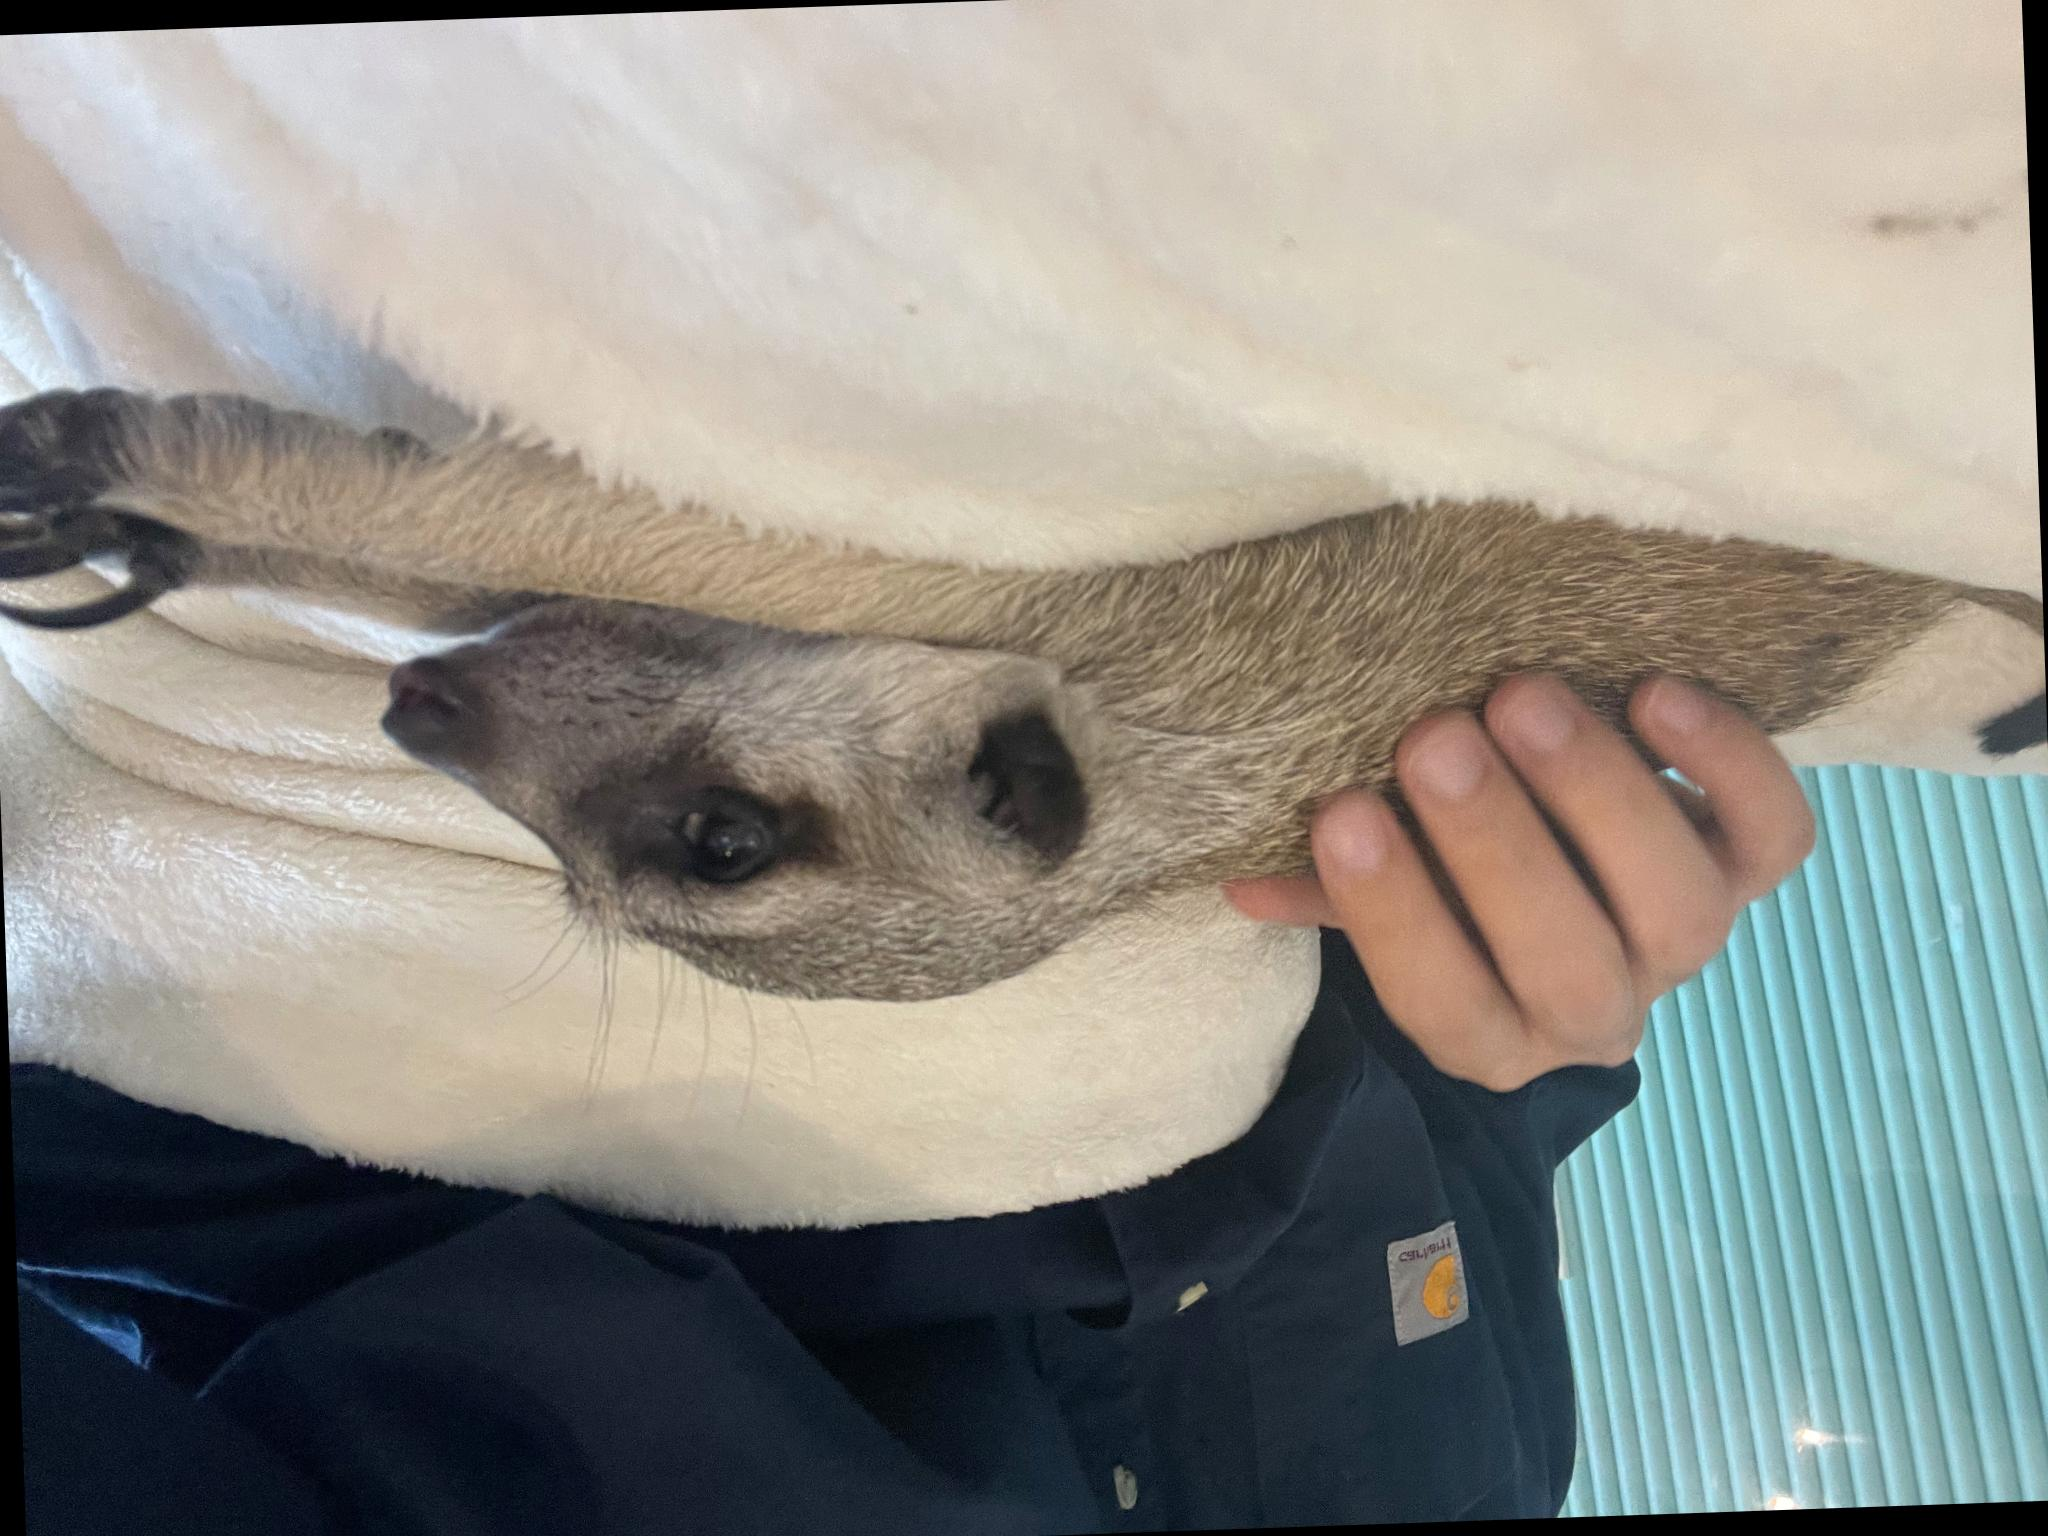meerkat: (0, 390, 2048, 1215)
